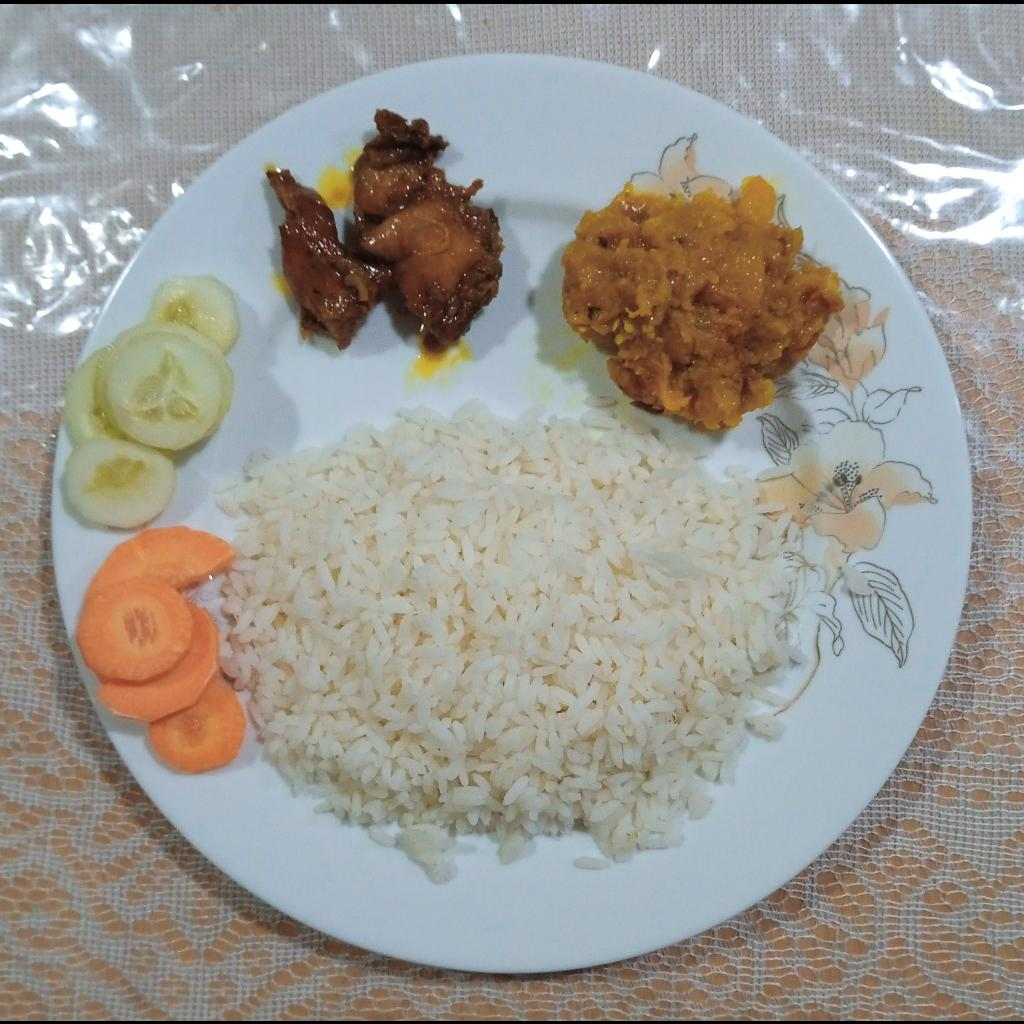carrot: (76, 525, 248, 774)
chicken: (265, 107, 506, 351)
cucumber: (60, 276, 244, 532)
kumra-vaji: (557, 178, 843, 436)
rice: (193, 396, 806, 882)
